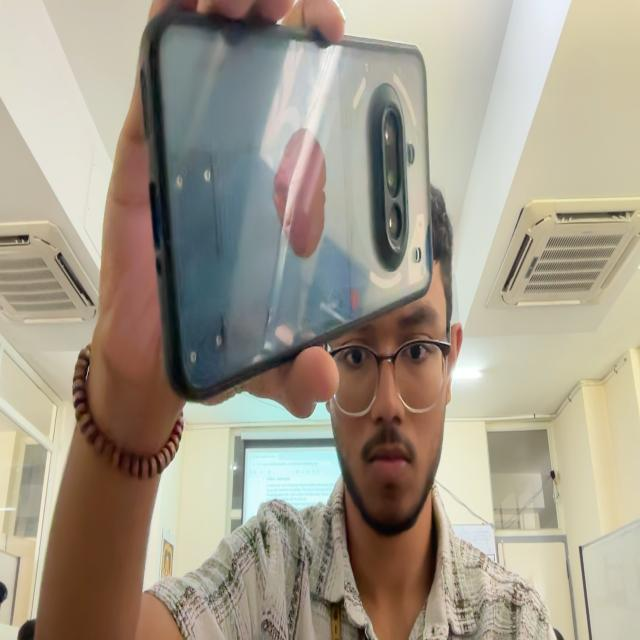Useful: (140, 12, 433, 401)
